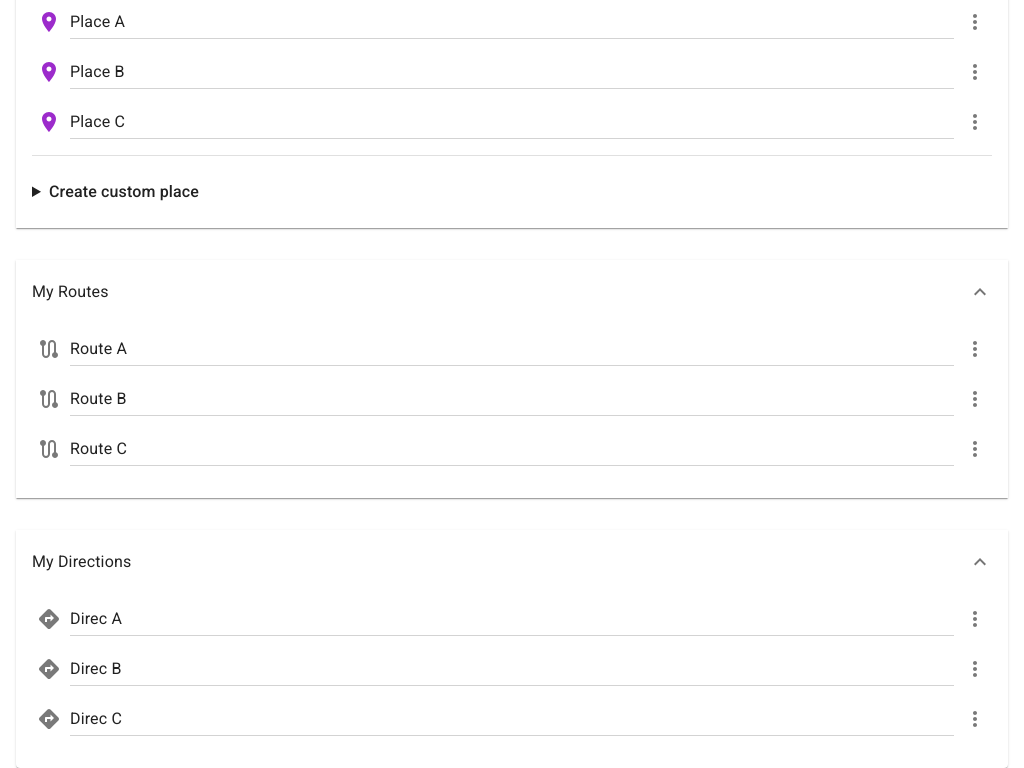
it: <FavoritesPanel /> › direc › should edit name and sort items by name
(page scrolled)
Click the button named "Menu" in the row of "Direc B". click: click(975, 669)
box: left=958, top=652, right=992, bottom=686
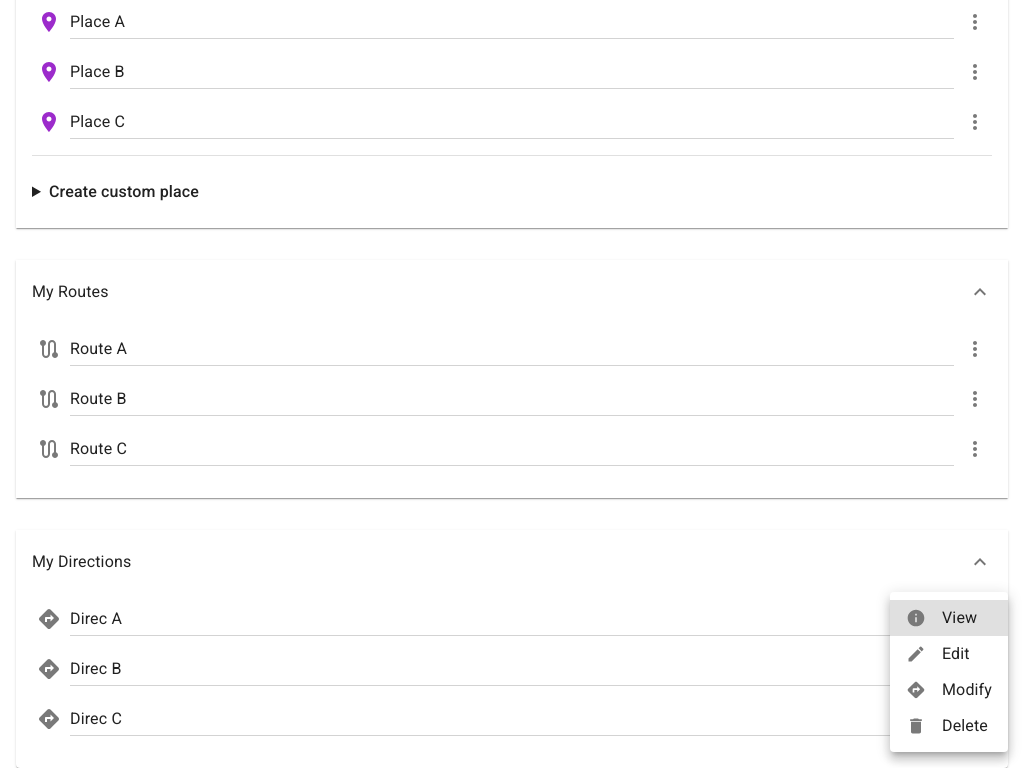
Click the menu item "Edit". click: click(916, 654)
box: left=906, top=644, right=970, bottom=664
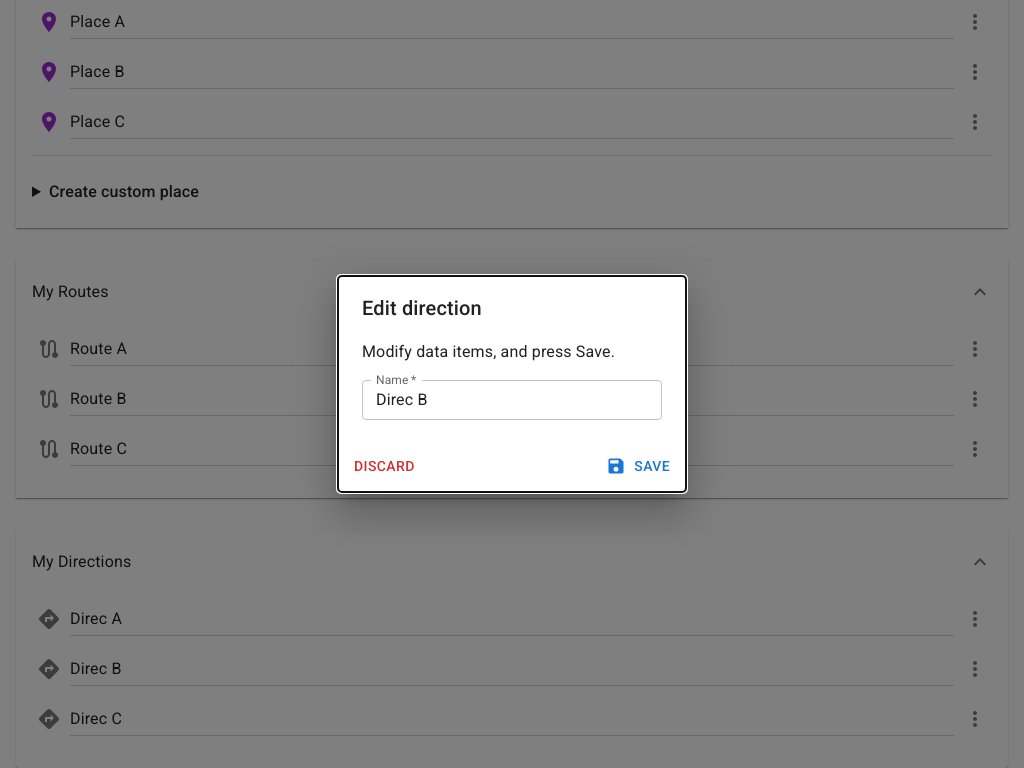
Replace the text in the field labelled "Name" with "Direc D". click: (512, 400)
box: left=362, top=380, right=662, bottom=420
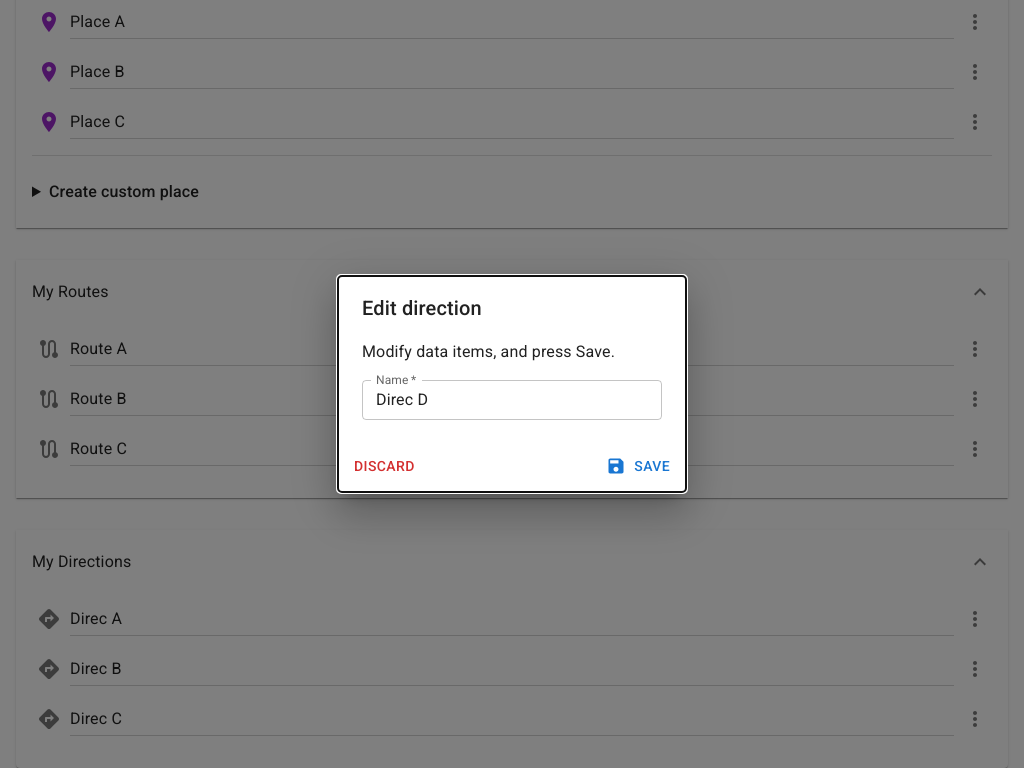
Click the button "Save". click: click(640, 466)
box: left=602, top=448, right=678, bottom=484
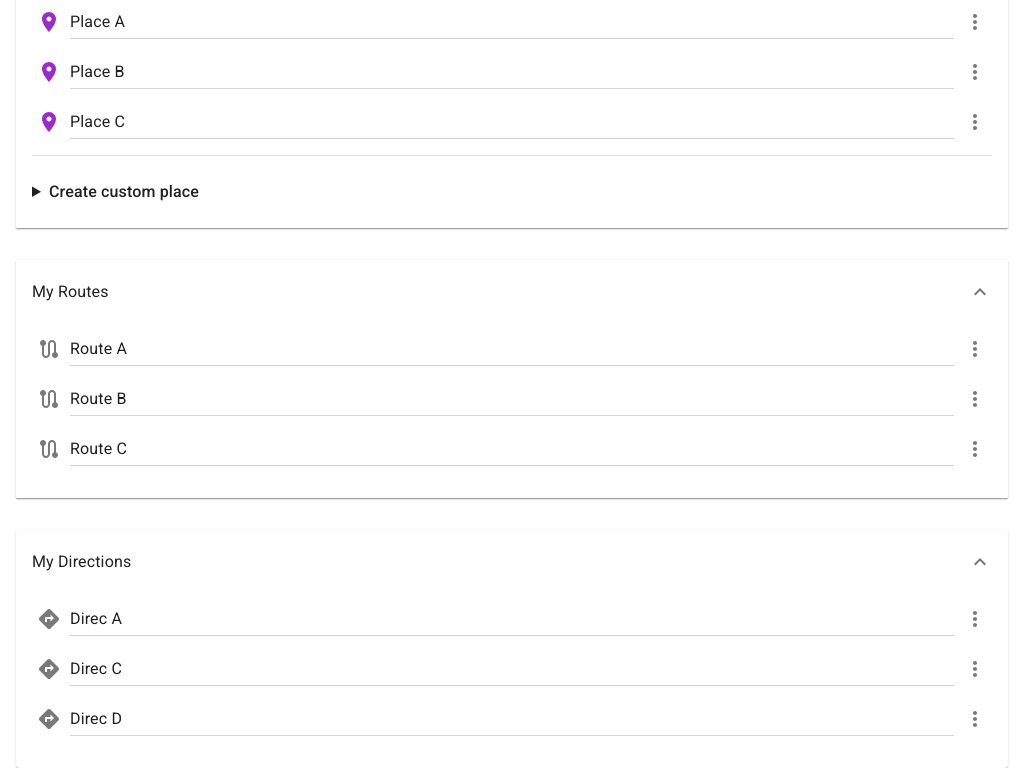
Expected: the text "Direc A" is shown, left=70, top=606, right=122, bottom=630
Now the dialog is gone
Now the text "Direc D" is shown, box left=70, top=706, right=122, bottom=730
